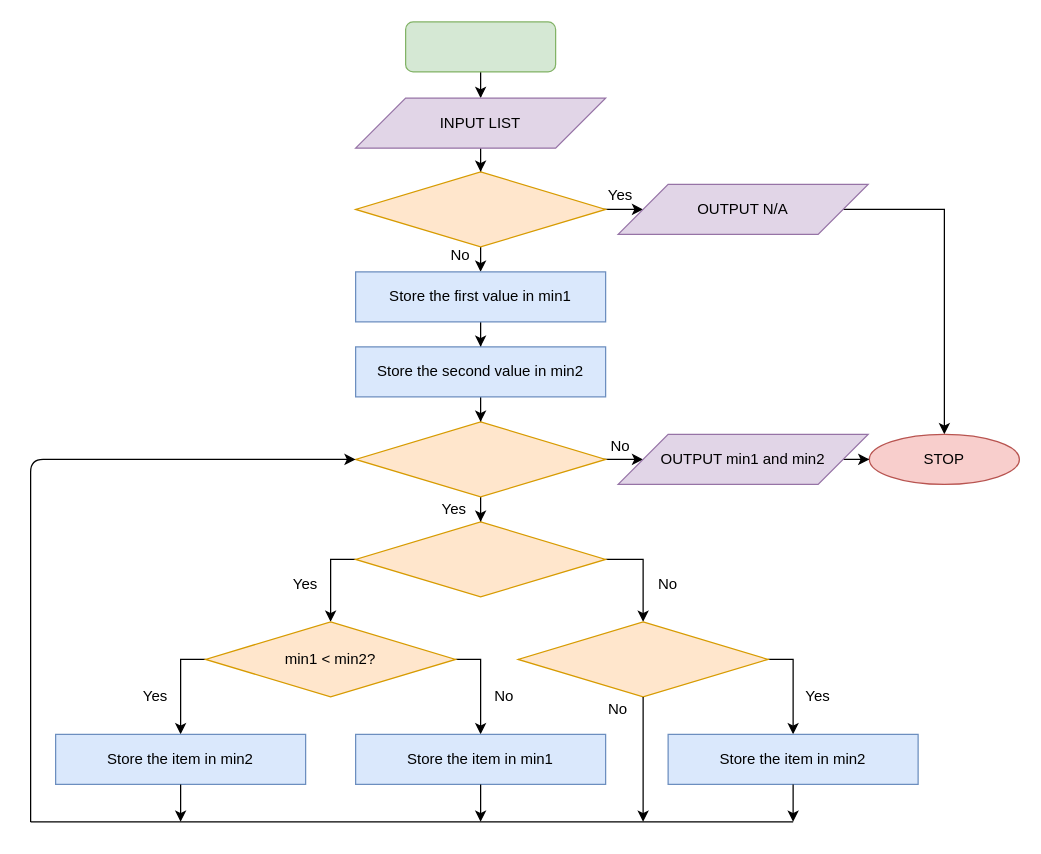
Image size: 1041x854. Some labels were removed from this diagram. The shapes that lost their labels are listed below. From the top down, each one's centre as x and y in pixels, then its label:
At pixel 480 46: "START".
At pixel 480 209: "Is the input list empty?".
At pixel 480 459: "Untested item in list?".
At pixel 480 559: "item < min1?".
At pixel 642 659: "item < min2?".
